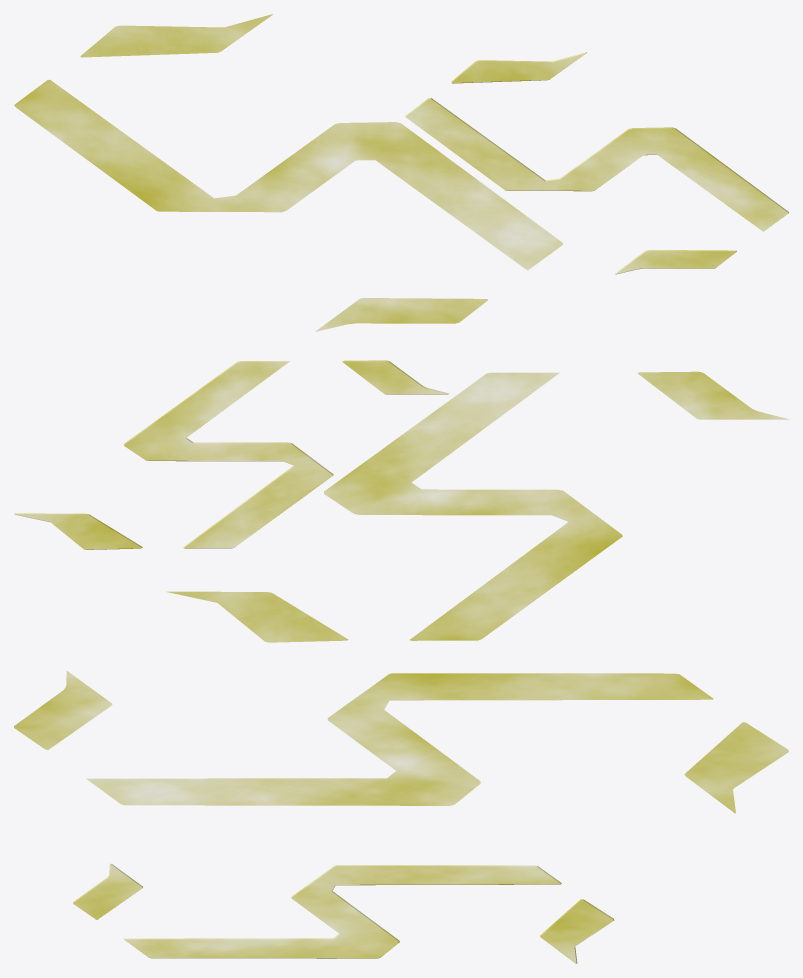
The model's file is RankSSInside.fbx.
The picture shows the model from 3 angles, top to bottom: view 1: azimuth 30°, elevation 25°; view 2: azimuth 150°, elevation 25°; view 3: azimuth 270°, elevation 25°; orthographic projection.
Parts seen in each view (by area): view 1: LOD_1_Group_0_Sub_2__phong2; view 2: LOD_1_Group_0_Sub_2__phong2; view 3: LOD_1_Group_0_Sub_2__phong2.
Boxes of the visible parts, left/top/right/bottom form: LOD_1_Group_0_Sub_2__phong2: left=14, top=14, right=788, bottom=331; LOD_1_Group_0_Sub_2__phong2: left=14, top=360, right=788, bottom=642; LOD_1_Group_0_Sub_2__phong2: left=14, top=671, right=788, bottom=963.
Bounding box in the file's own units: 21.64 × 1.47 × 27.68.
1 material, 1 textured.
